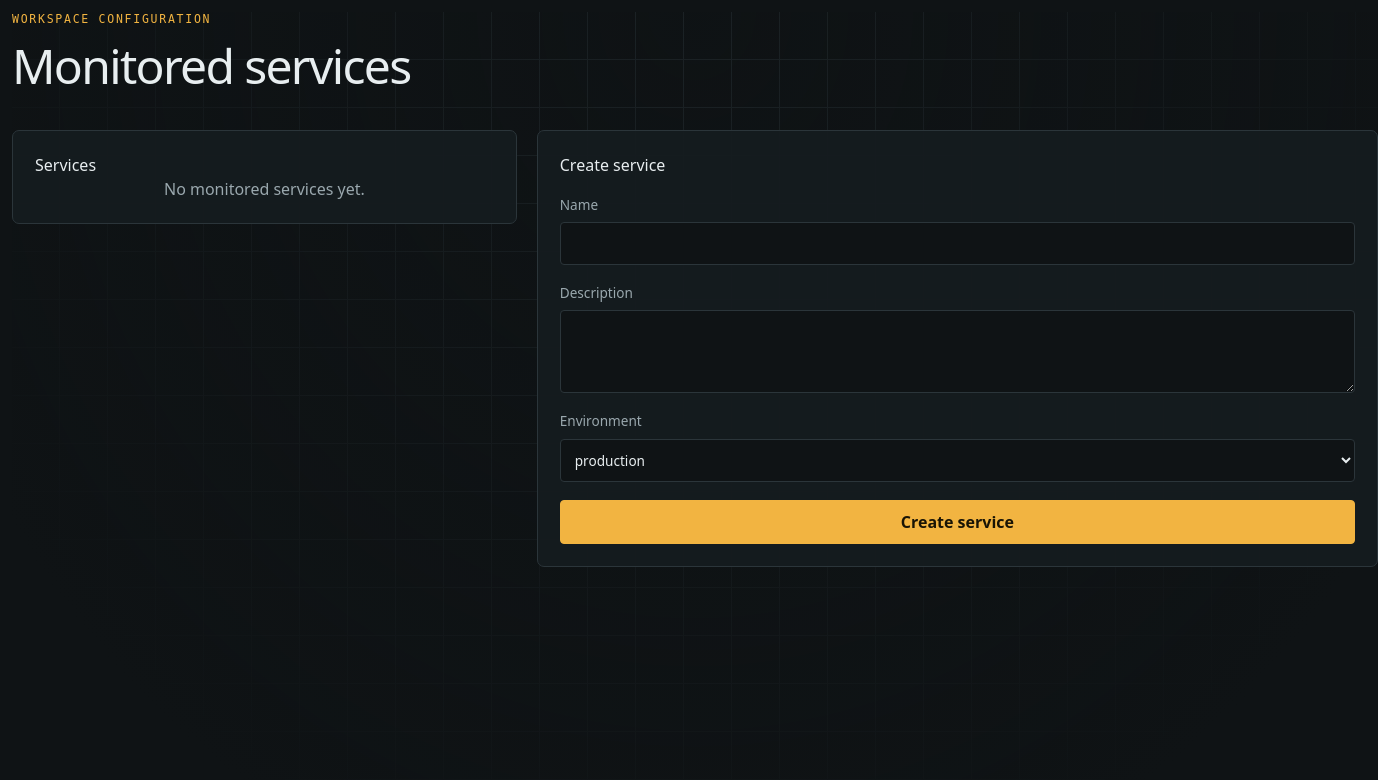
Test: Module 1 operations UI › creates a monitored service and refreshes the list
Expected: the text "No monitored services yet." is shown, [164,178,365,200]
Type "Checkout API" into the field labelled "Name". click: (957, 244)
box: [560,222,1355,265]
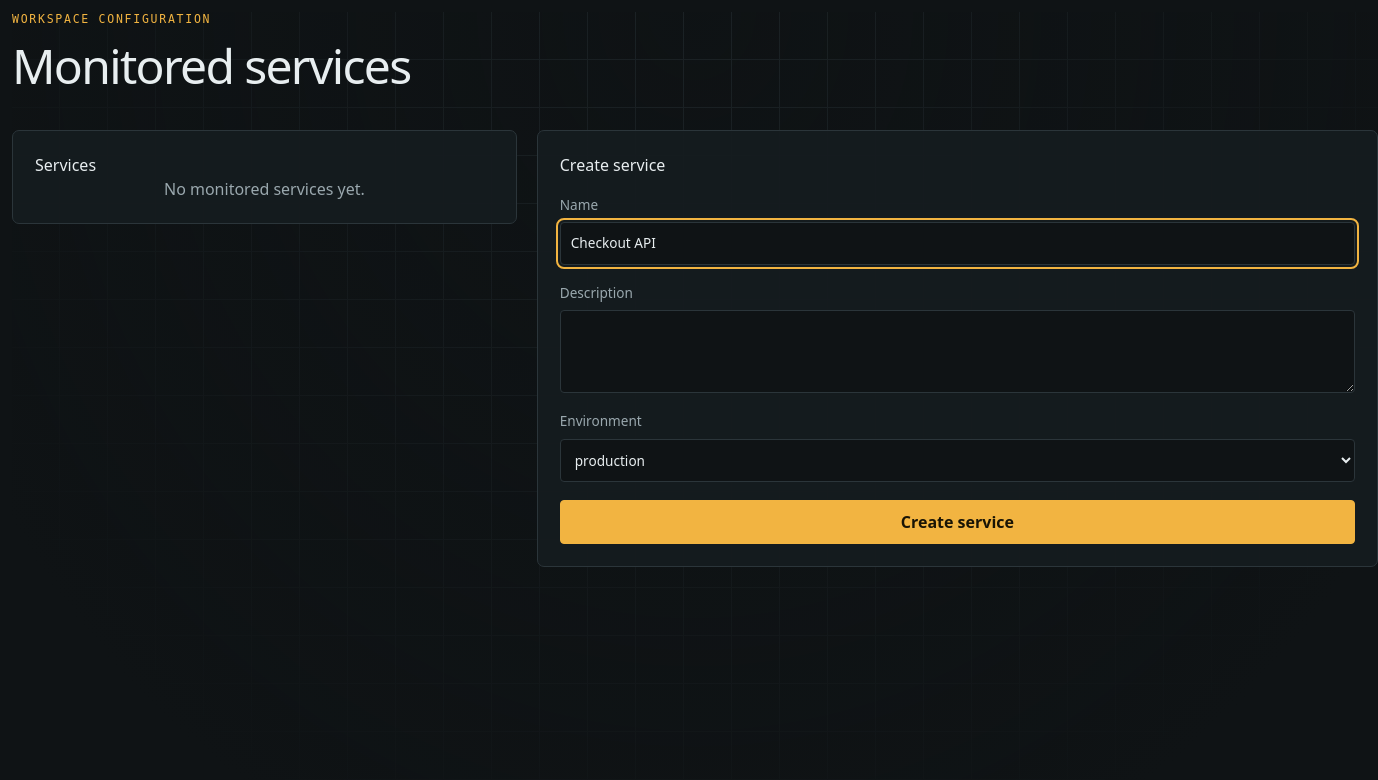
Click the button "Create service". click: click(957, 522)
box: [560,500,1355,544]
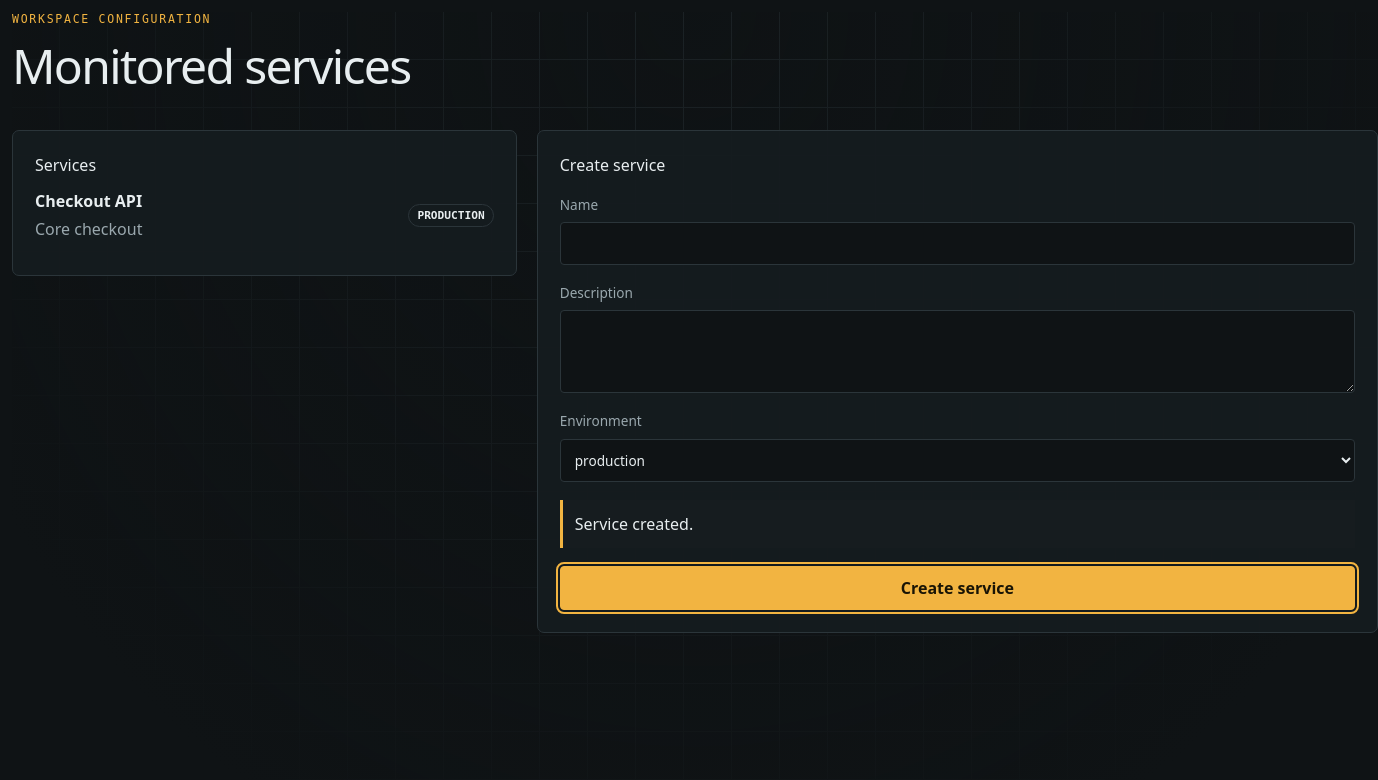
Expected: the text "Service created." is shown, [560,500,1355,548]
Expected: the text "Core checkout" is shown, [35,218,142,240]
